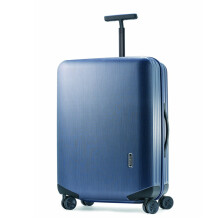luggage: (55, 13, 174, 215)
